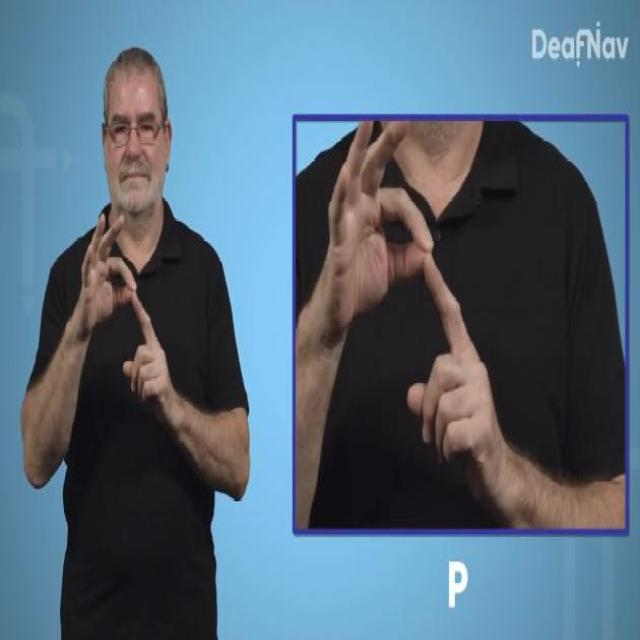P: (327, 117, 503, 500), (70, 212, 172, 413)
